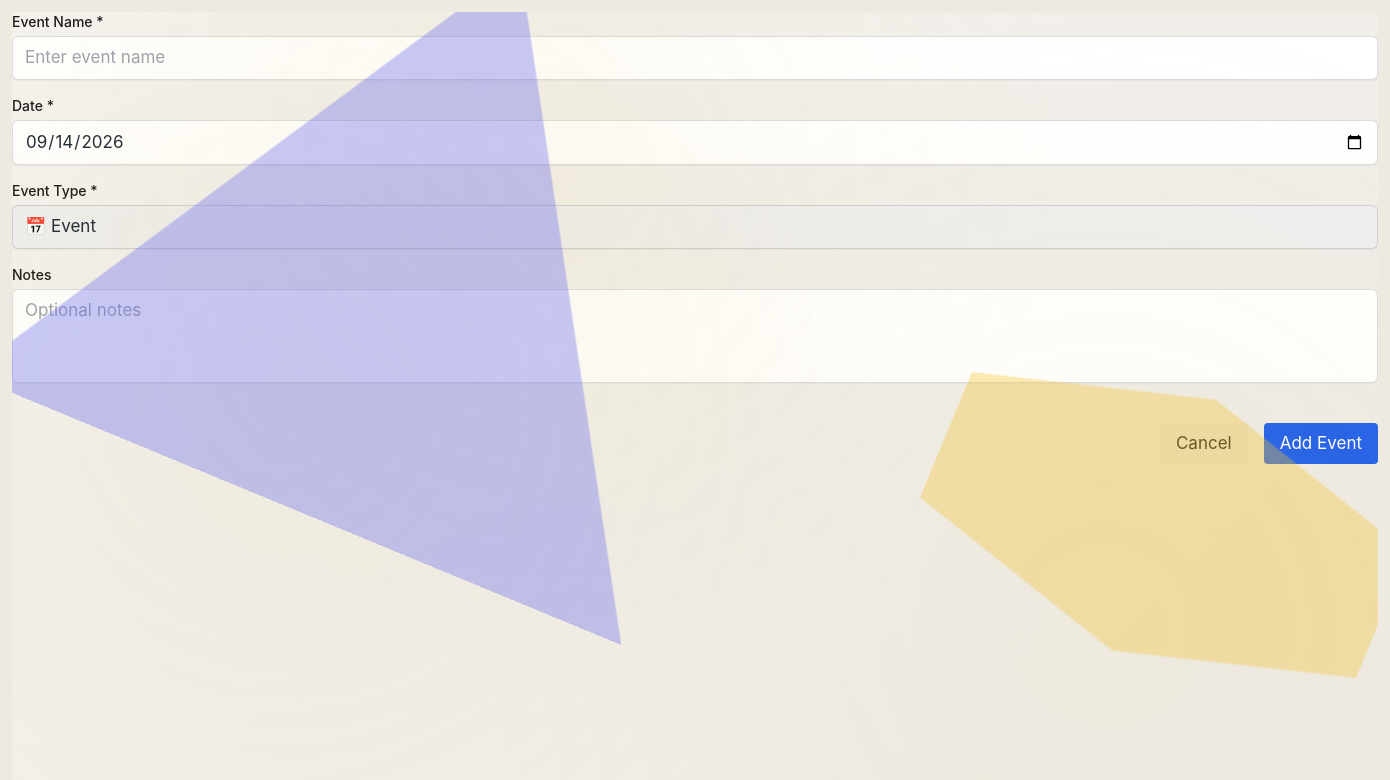
Test case: CalendarEventModal › Error Handling › should handle unauthenticated user
Fill form
In the field labelled "Event Name *": (695, 58) [12,36,1378,80], type "Test Event"
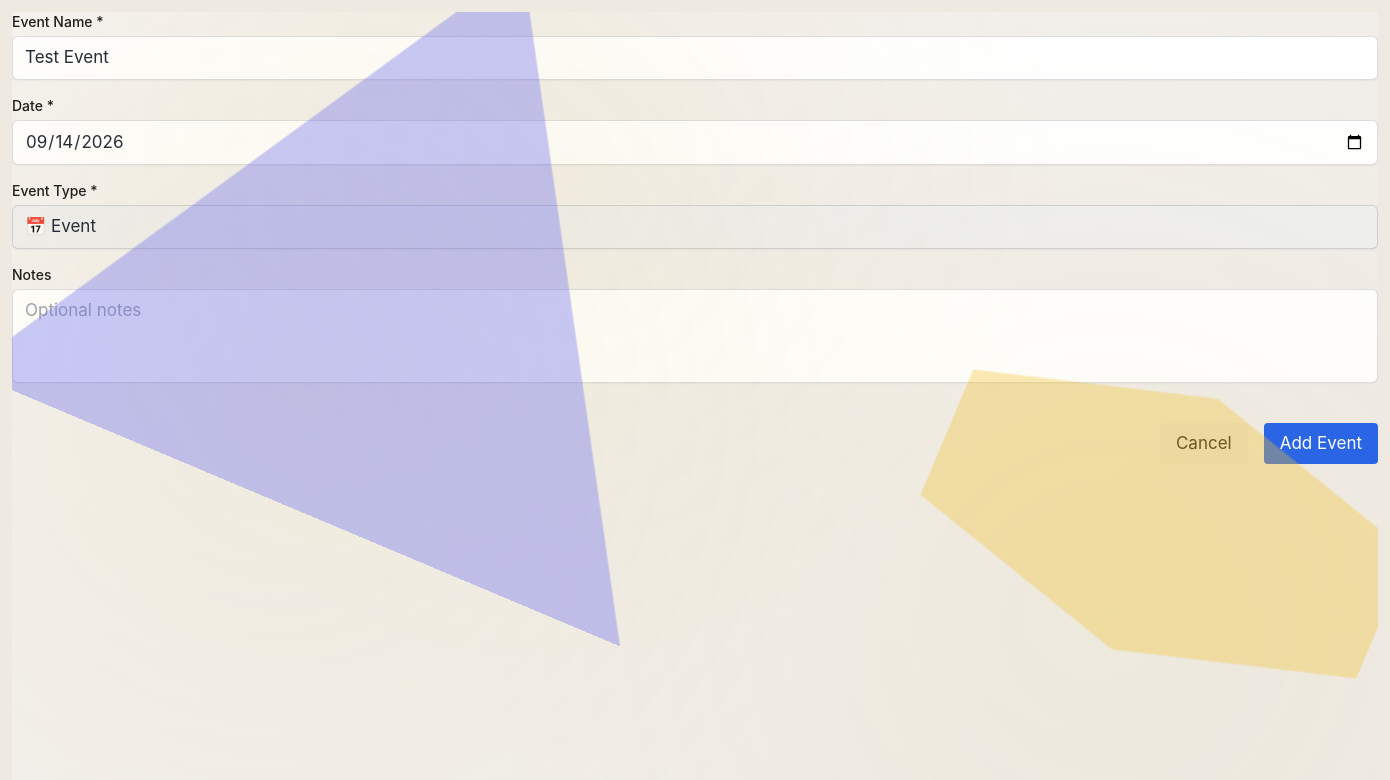
Submit form
Click the button "Add Event": (1321, 443) [1264,422,1378,464]
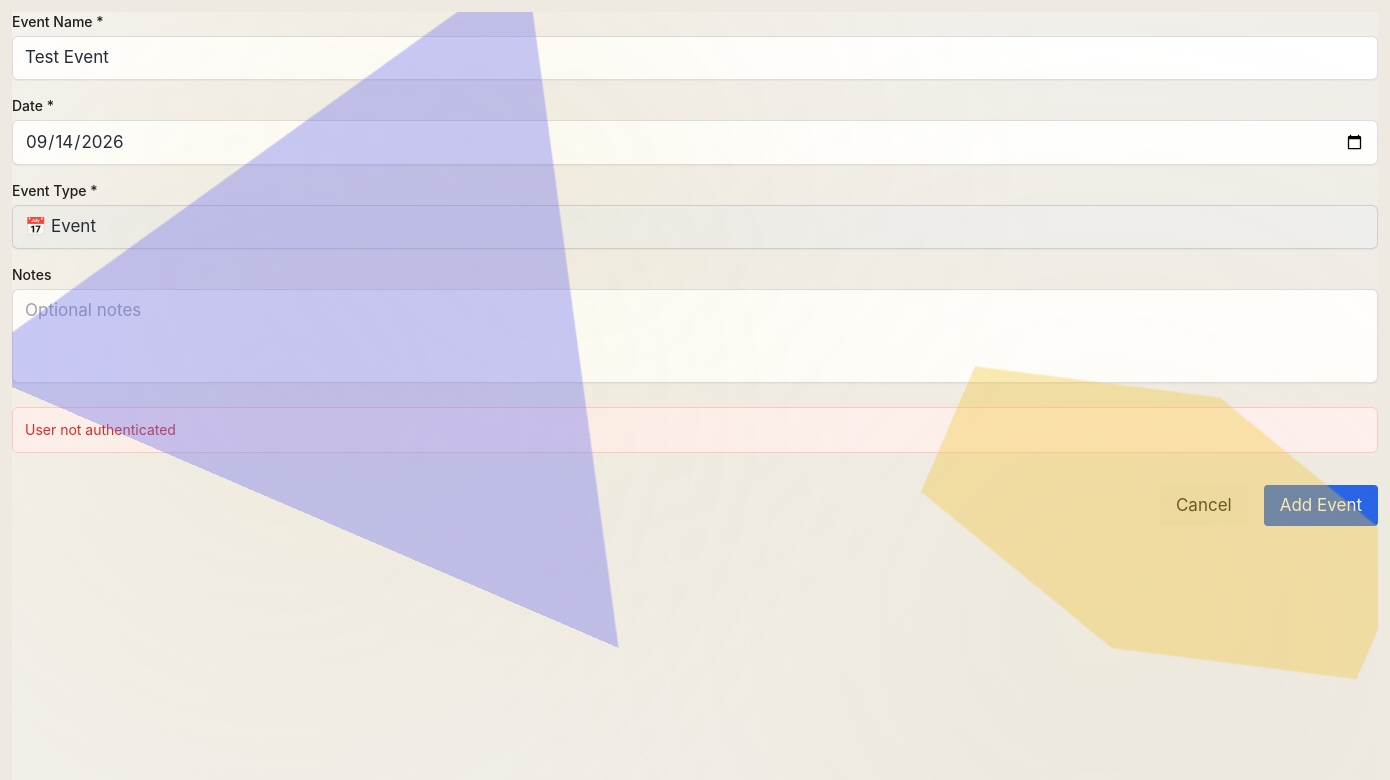
expect the text "User not authenticated" is shown: met, box [25,420,176,438]
